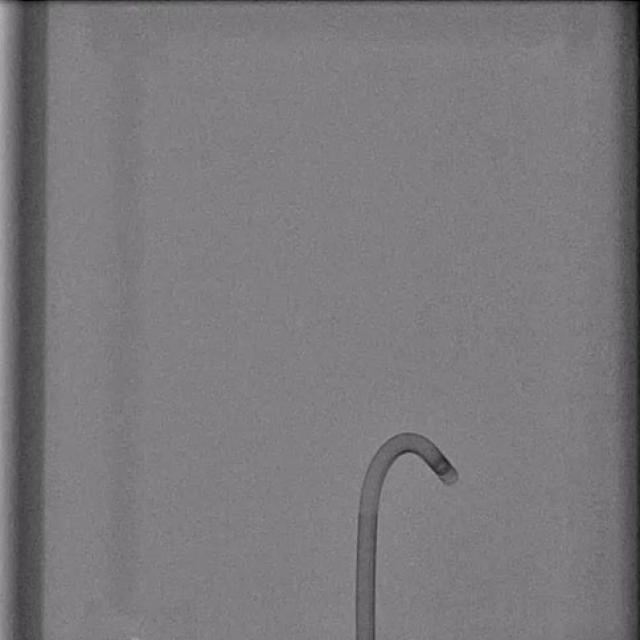bend: (357, 499, 380, 514)
entry: (355, 634, 375, 640)
marker: (432, 455, 452, 477)
tip: (446, 474, 461, 488)
